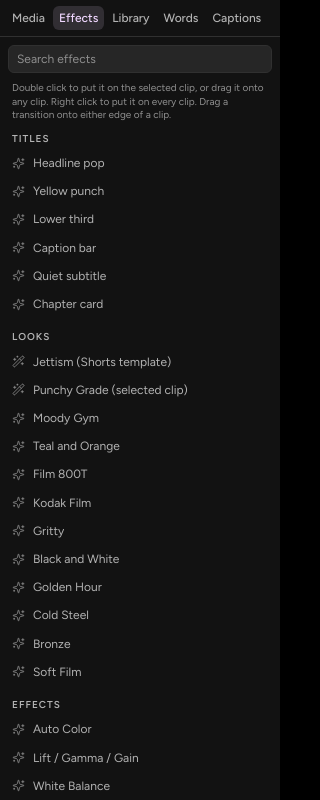
Test: switching left tabs › keeps what he typed in the Effects search
Type "blur" into the search field with test id "effect-search" at (140, 59), box [8,45,272,73]
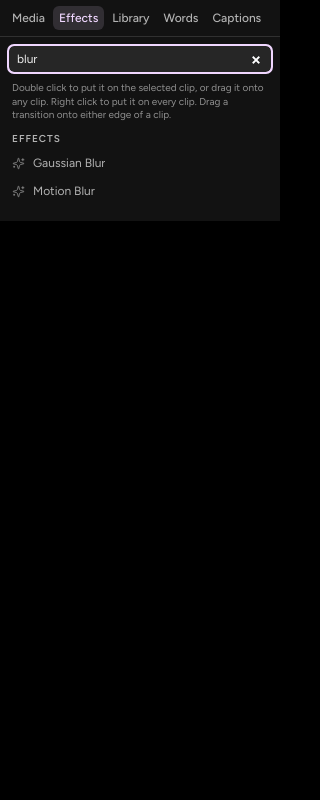
Click the tab with test id "tab-media" at (28, 18), box [6,6,51,30]
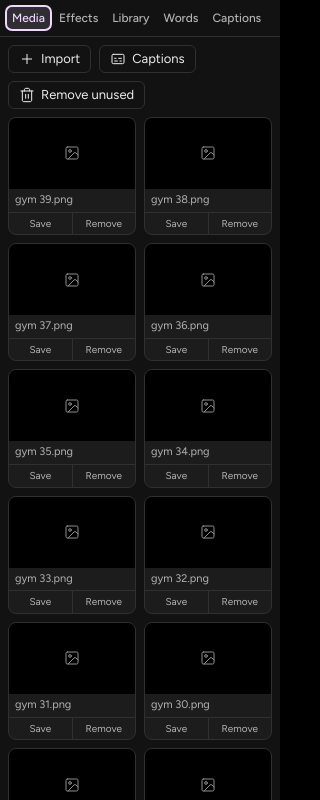
Now the search field with test id "effect-search" is gone
Click the tab with test id "tab-effects" at (79, 18), box [53,6,104,30]
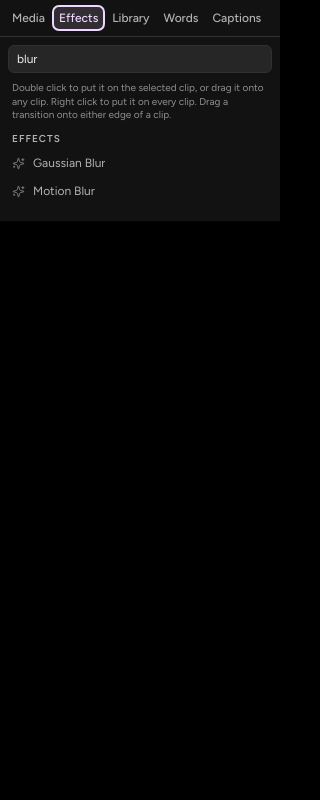
Now the search field with test id "effect-search" holds "blur", box [8,45,272,73]
